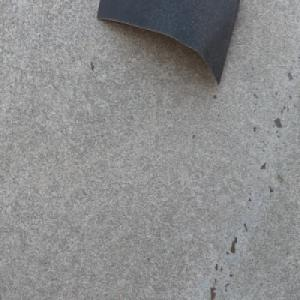PaintChip: (96, 0, 240, 85)
